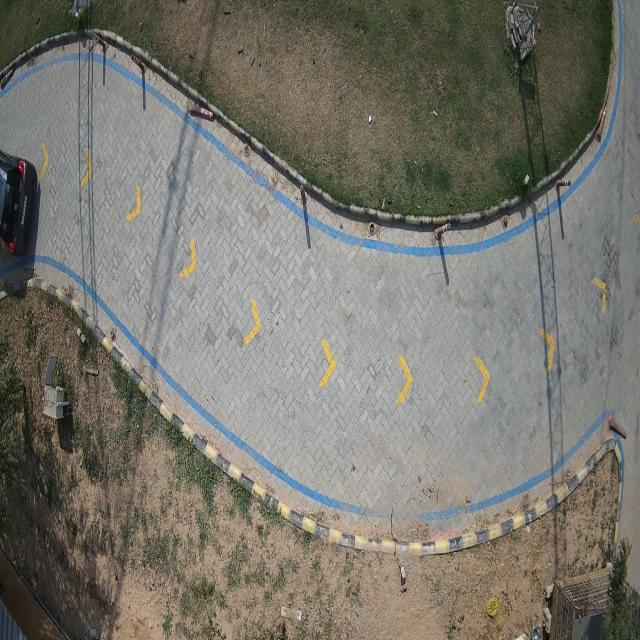car: (0, 151, 39, 254)
